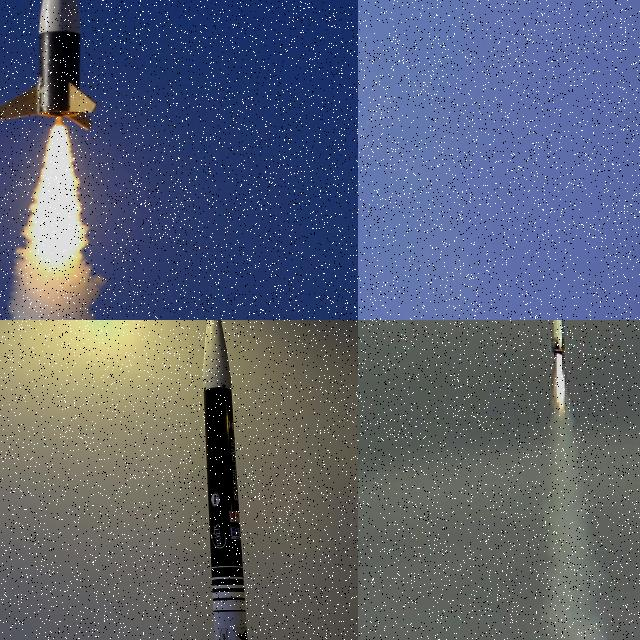Rocket: (203, 320, 248, 640), (0, 0, 100, 131), (546, 320, 565, 354)
